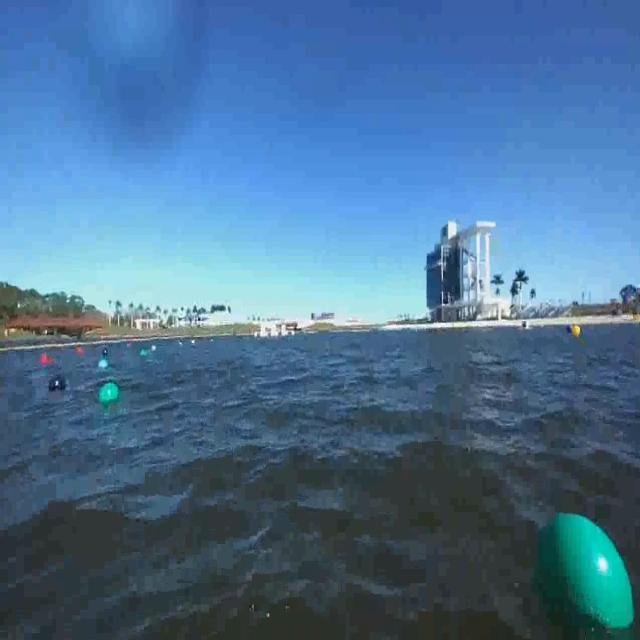black-buoy: (49, 376, 68, 394)
green-buoy: (514, 498, 639, 640), (98, 380, 118, 404)
yellow-buoy: (572, 323, 580, 337)
